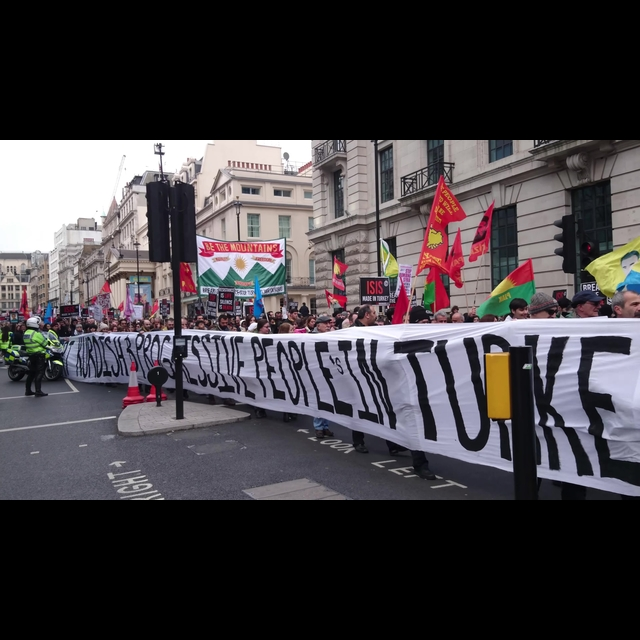PJAK: (490, 275, 517, 306)
